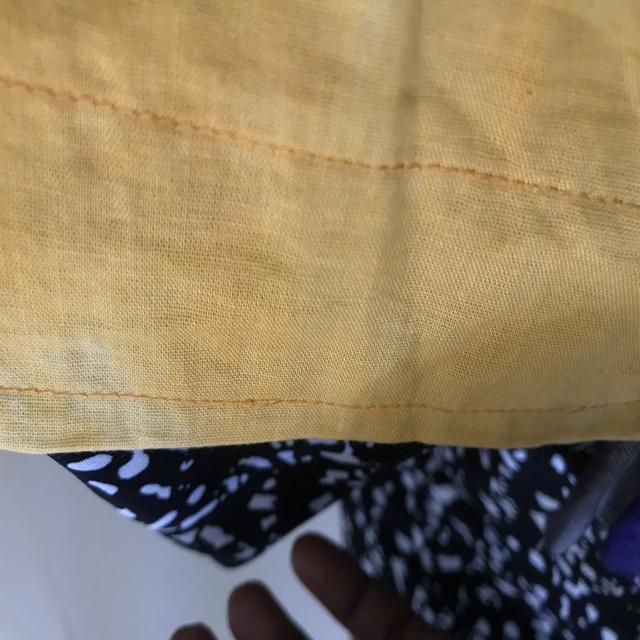skip: (235, 384, 287, 418)
